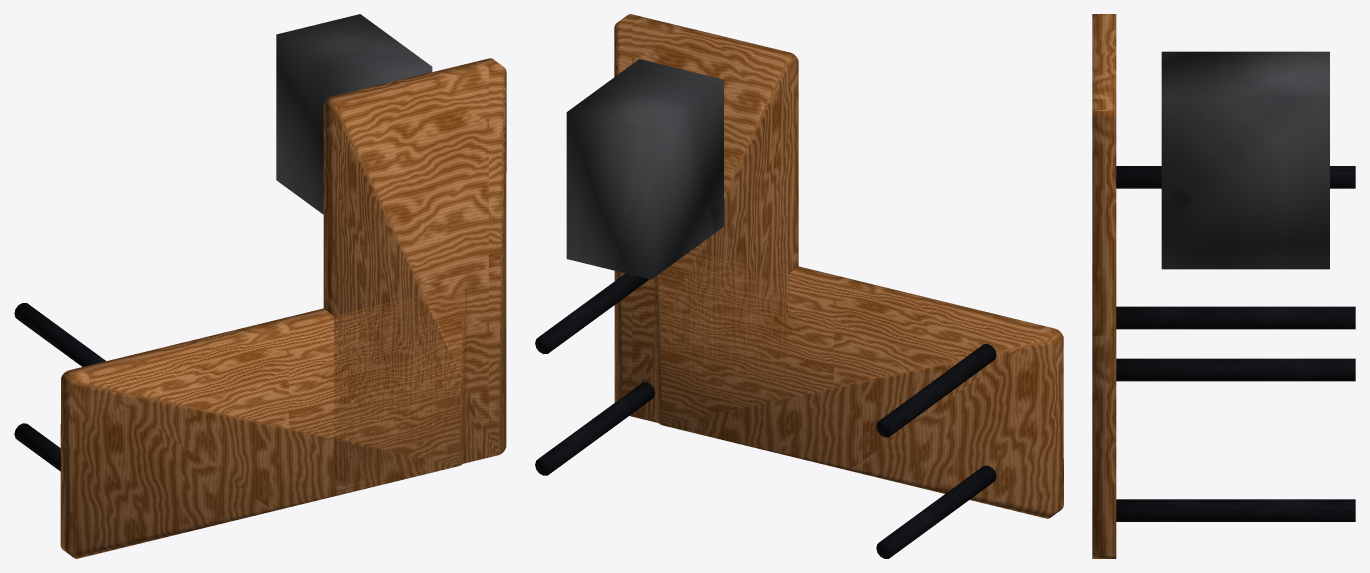
The model's file is DESK_L_CORNER_001.glb.
3 renders of one model, left to right at view 1: azimuth 30°, elevation 25°; view 2: azimuth 150°, elevation 25°; view 3: azimuth 270°, elevation 25°, orthographic. The views are drawn at different scales.
Visible parts, largest first — view 1: main_top_000, return_top_001, drawer_return_006, leg_003, leg_002; view 2: main_top_000, return_top_001, drawer_return_006, leg_003, leg_002, leg_004, leg_005; view 3: drawer_return_006, return_top_001, leg_002, leg_005, leg_004, leg_003.
Boxes of the visible parts, <box> form: main_top_000: <box>60,286,466,558</box>; return_top_001: <box>323,58,506,491</box>; drawer_return_006: <box>276,14,432,214</box>; leg_003: <box>14,303,105,366</box>; leg_002: <box>14,423,60,471</box>; main_top_000: <box>654,250,1063,518</box>; return_top_001: <box>614,14,798,452</box>; drawer_return_006: <box>566,59,723,279</box>; leg_003: <box>876,344,996,437</box>; leg_002: <box>876,465,996,558</box>; leg_004: <box>535,382,655,475</box>; leg_005: <box>535,273,649,354</box>; drawer_return_006: <box>1161,51,1329,269</box>; return_top_001: <box>1092,14,1116,558</box>; leg_002: <box>1116,306,1355,329</box>; leg_005: <box>1116,358,1355,381</box>; leg_004: <box>1116,499,1355,521</box>; leg_003: <box>1116,166,1355,188</box>.
Size of the model in its own units: 1.82 by 1.55 by 0.815.
Materials: 3 (3 with a texture image).
